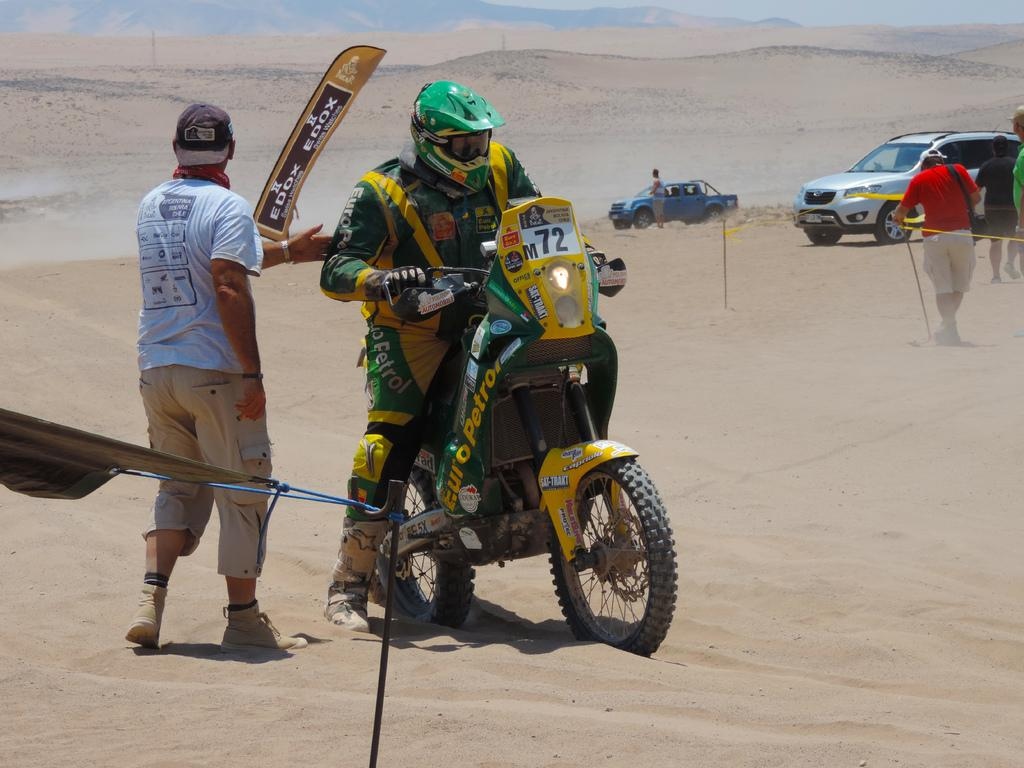helmet: (410, 80, 506, 193)
nohelmet: (172, 102, 236, 185)
